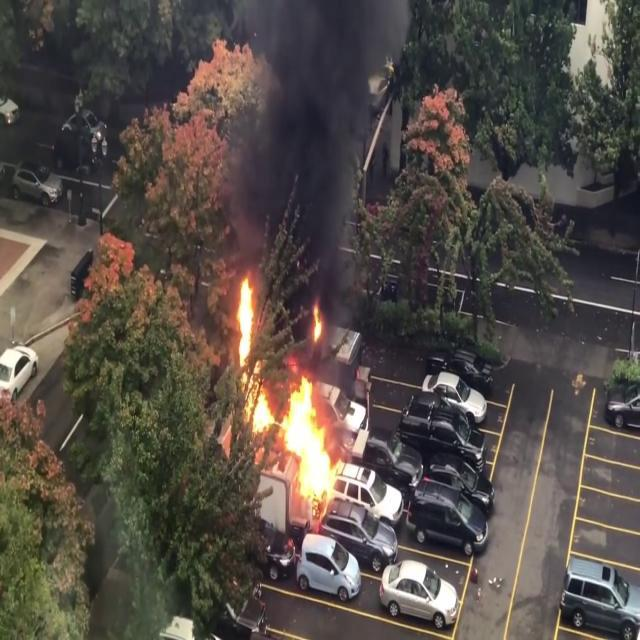Fire: (227, 270, 358, 512)
Smoke: (224, 0, 412, 263)
